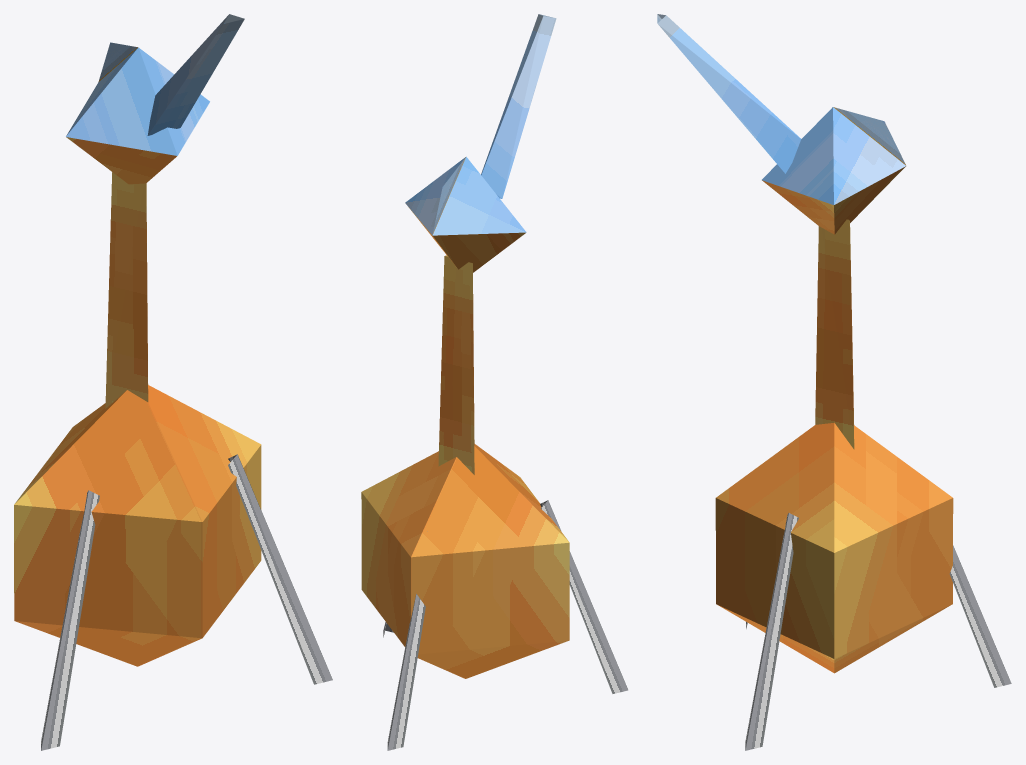
File: edb_con_pitcher_s1_full_l3.fbx
The picture shows the model from 3 angles, left to right: view 1: azimuth 30°, elevation 25°; view 2: azimuth 150°, elevation 25°; view 3: azimuth 270°, elevation 25°; orthographic projection. The views are drawn at different scales.
Visible parts, largest first — view 1: mesh_node; view 2: mesh_node; view 3: mesh_node.
Part boxes in pixels (x1=…): mesh_node: x1=14, y1=14, x2=332, y2=750; mesh_node: x1=361, y1=14, x2=627, y2=750; mesh_node: x1=657, y1=14, x2=1011, y2=750.
Size of the model in its own units: 0.1891 by 0.4548 by 0.2178.
